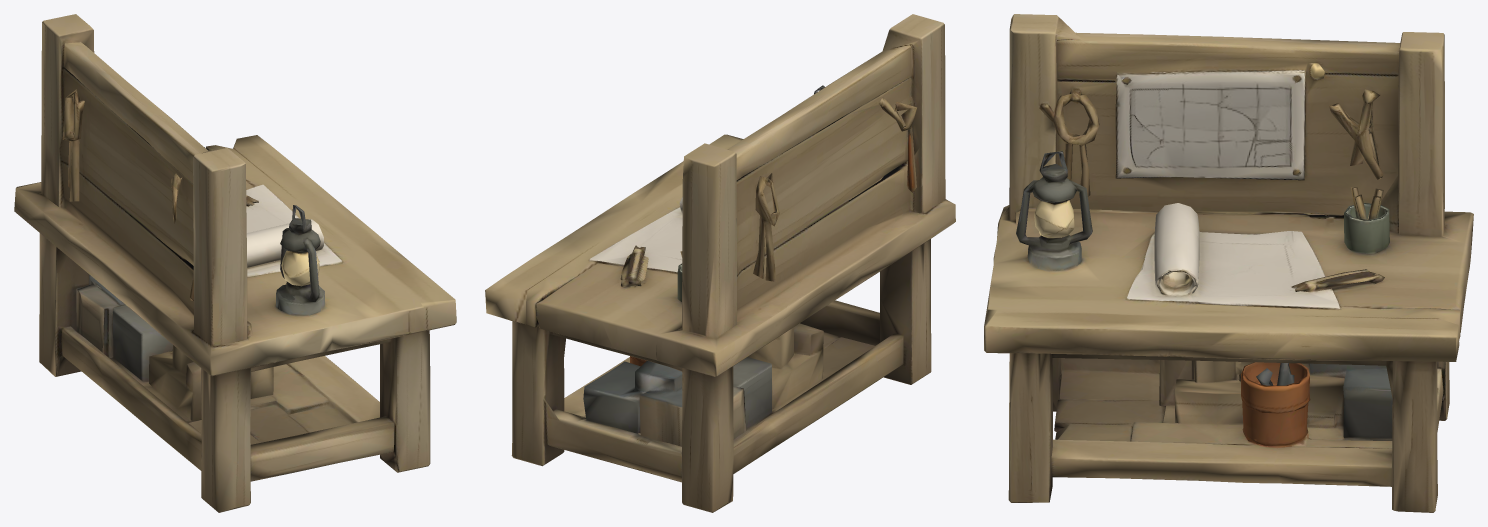
Rendered from workbench.fbx.
The picture shows the model from 3 angles, left to right: view 1: azimuth 30°, elevation 25°; view 2: azimuth 150°, elevation 25°; view 3: azimuth 270°, elevation 25°; orthographic projection. The views are drawn at different scales.
Visible parts, largest first — view 1: tripo_node_1ab54122; view 2: tripo_node_1ab54122; view 3: tripo_node_1ab54122.
Boxes of the visible parts, x1=… form: tripo_node_1ab54122: x1=14, y1=14, x2=456, y2=512; tripo_node_1ab54122: x1=485, y1=14, x2=955, y2=512; tripo_node_1ab54122: x1=984, y1=14, x2=1473, y2=512.
Size of the model in its own units: 0.6461 by 0.8293 by 0.9795.
